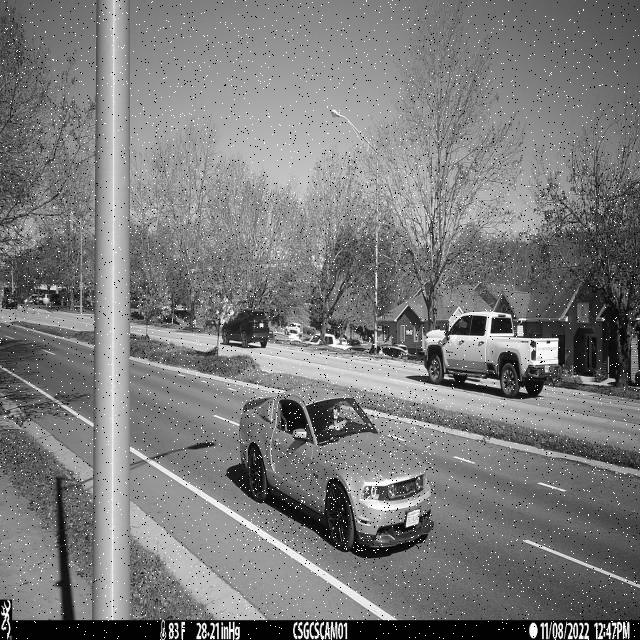Sedan: (240, 387, 436, 552)
